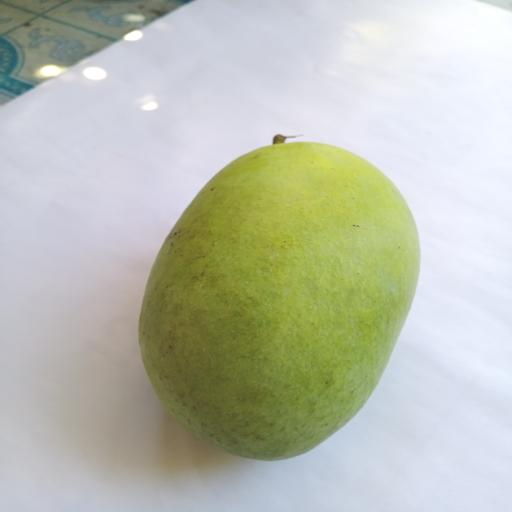mango-unripe: (123, 120, 434, 462)
